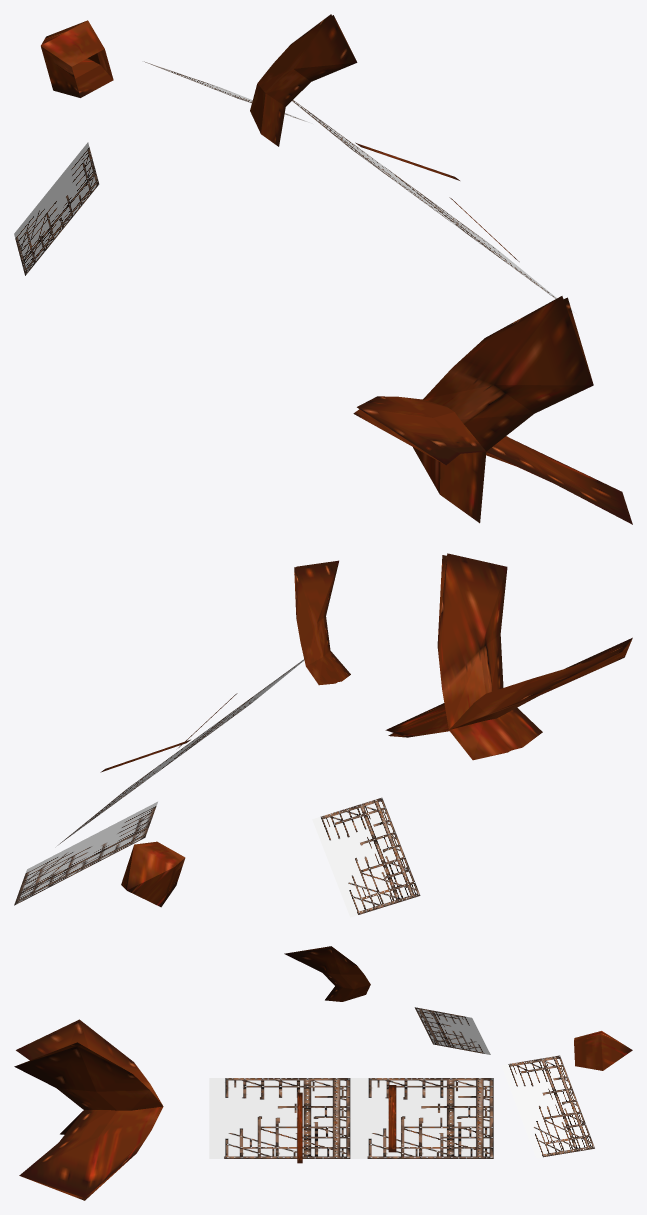
The model's file is ZeppelinHalleTeil_Wrack3Zubehör_844.glb.
The picture shows the model from 3 angles, top to bottom: view 1: azimuth 30°, elevation 25°; view 2: azimuth 150°, elevation 25°; view 3: azimuth 270°, elevation 25°; orthographic projection. The views are drawn at different scales.
Parts seen in each view (by area): view 1: pCylinderShape25, pCylinderShape26, pCylinderShape40, pPlaneShape33, pSphereShape6, pPlaneShape13; view 2: pCylinderShape25, pPlaneShape33, pCylinderShape26, pCylinderShape40, pPlaneShape32, pSphereShape6, pPlaneShape13; view 3: pPlaneShape13, pCylinderShape26, pPlaneShape32, pCylinderShape25, pCylinderShape40, pPlaneShape33, pSphereShape6, pPlaneShape11, pPlaneShape12.
Part boxes in pixels (box(x1,y1,x2,y2)): pCylinderShape25: box(413, 296, 593, 523); pCylinderShape26: box(353, 396, 632, 524); pCylinderShape40: box(250, 14, 357, 146); pPlaneShape33: box(14, 142, 99, 275); pSphereShape6: box(41, 20, 113, 97); pPlaneShape13: box(292, 100, 574, 312); pCylinderShape25: box(437, 553, 542, 760); pPlaneShape33: box(312, 797, 420, 917); pCylinderShape26: box(385, 637, 632, 737); pCylinderShape40: box(294, 560, 350, 685); pPlaneShape32: box(14, 801, 157, 905); pSphereShape6: box(121, 841, 185, 907); pPlaneShape13: box(57, 659, 304, 845); pPlaneShape13: box(209, 1078, 493, 1158); pCylinderShape26: box(16, 1019, 162, 1200); pPlaneShape32: box(501, 1055, 594, 1158); pCylinderShape25: box(14, 1042, 163, 1134); pCylinderShape40: box(284, 946, 370, 1001); pPlaneShape33: box(414, 1007, 490, 1054); pSphereShape6: box(574, 1031, 632, 1070); pPlaneShape11: box(388, 1085, 396, 1152); pPlaneShape12: box(297, 1092, 302, 1163).
Bounding box in the file's own units: 1.9 × 1.64 × 4.06.
Materials: 9 (9 with a texture image).
